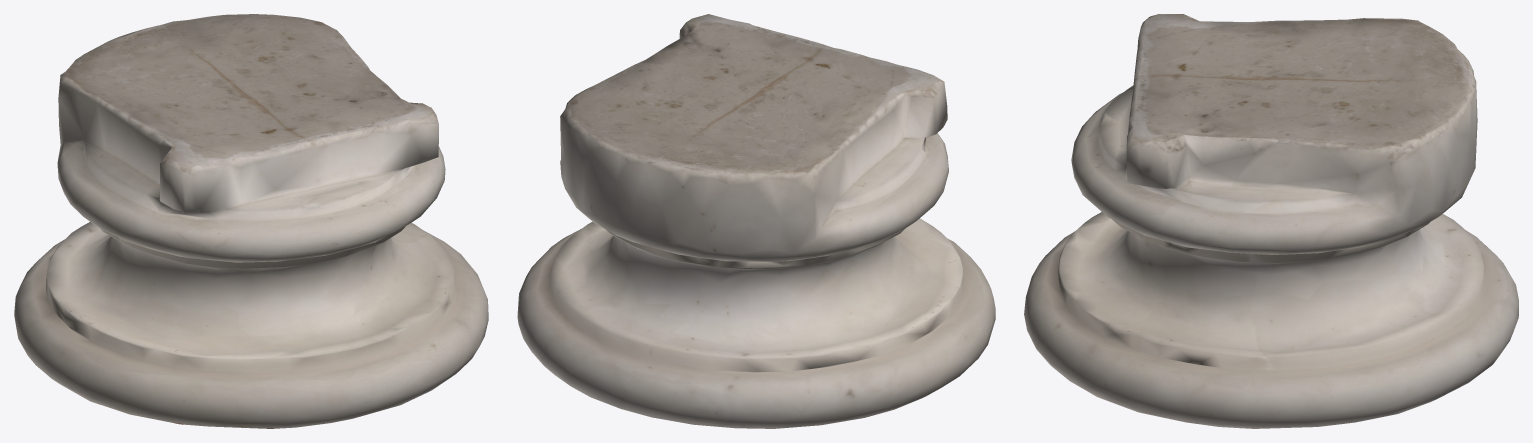
Rendered from GeorgeWashingtonBust.glb.
The picture shows the model from 3 angles, left to right: view 1: azimuth 30°, elevation 25°; view 2: azimuth 150°, elevation 25°; view 3: azimuth 270°, elevation 25°; orthographic projection. The views are drawn at different scales.
Parts seen in each view (by area): view 1: npg_70_4_base-hires_unwrapped-150k-unwrapped; view 2: npg_70_4_base-hires_unwrapped-150k-unwrapped; view 3: npg_70_4_base-hires_unwrapped-150k-unwrapped.
Boxes of the visible parts, box(x1,y1,x2,y2) form: npg_70_4_base-hires_unwrapped-150k-unwrapped: box(14, 14, 488, 428); npg_70_4_base-hires_unwrapped-150k-unwrapped: box(517, 14, 995, 428); npg_70_4_base-hires_unwrapped-150k-unwrapped: box(1024, 14, 1518, 428).
Bounding box in the file's own units: 5.54 × 3.18 × 5.53.
Materials: 1 (1 with a texture image).
